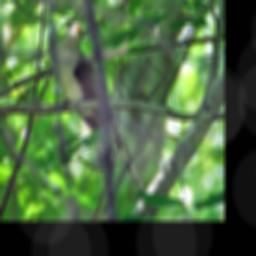Cuckoo: (51, 20, 153, 196)
